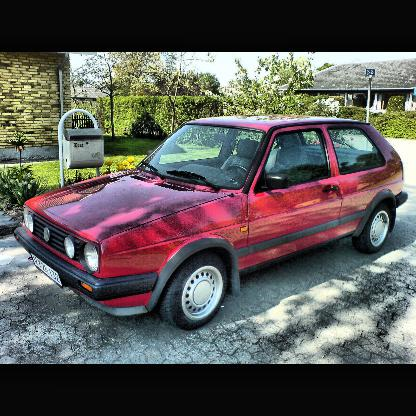Volkswagen Golf Hatchback 1991: (13, 116, 409, 332)
